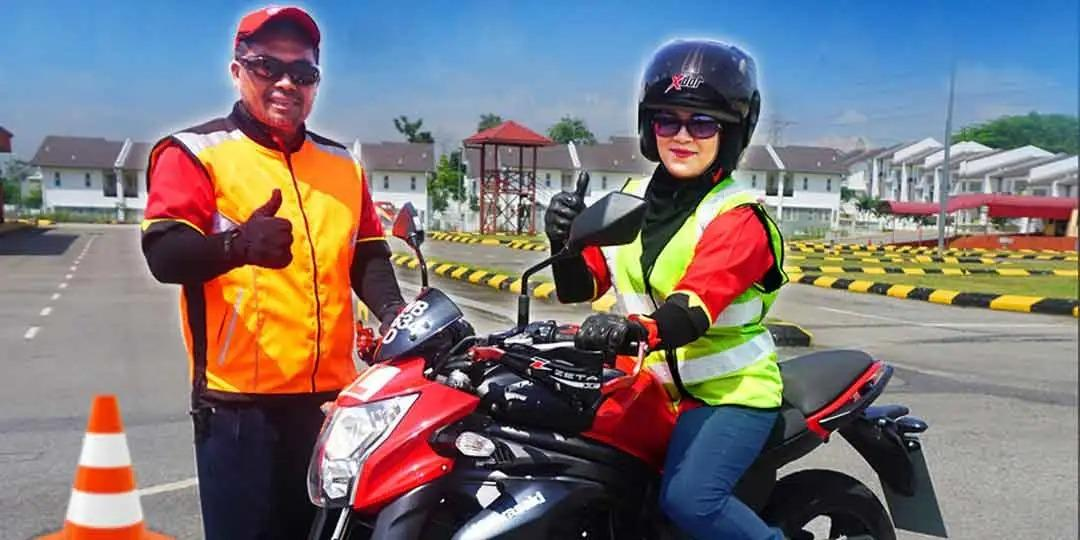helmet: (637, 39, 761, 177)
nohelmet: (231, 4, 325, 133)
